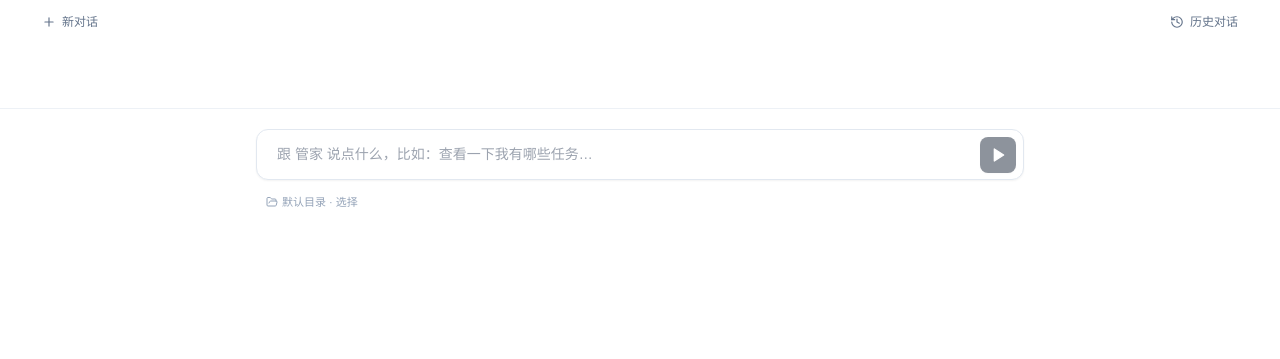
Scenario: ChatStream conversation initialization (Story 2.2 AC-2 / AC-7) › query 发出后在实际 thinking 内容到达前不展示 Think 框
Type "开始处理" into the dropdown with placeholder "跟 管家 说点什么，比如：查看一下我有哪些任务…" at (640, 154), box [256,129,1024,180]
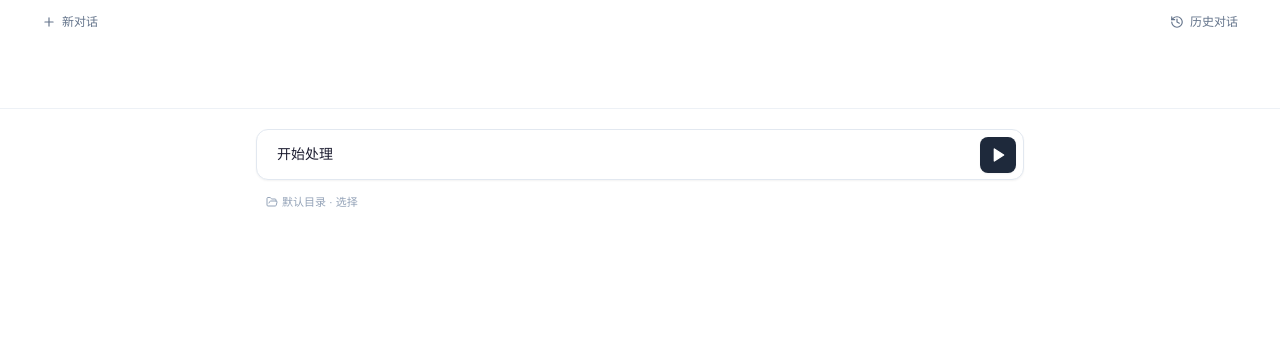
Click the button named "发送" at (998, 154), box [980,136,1016,172]
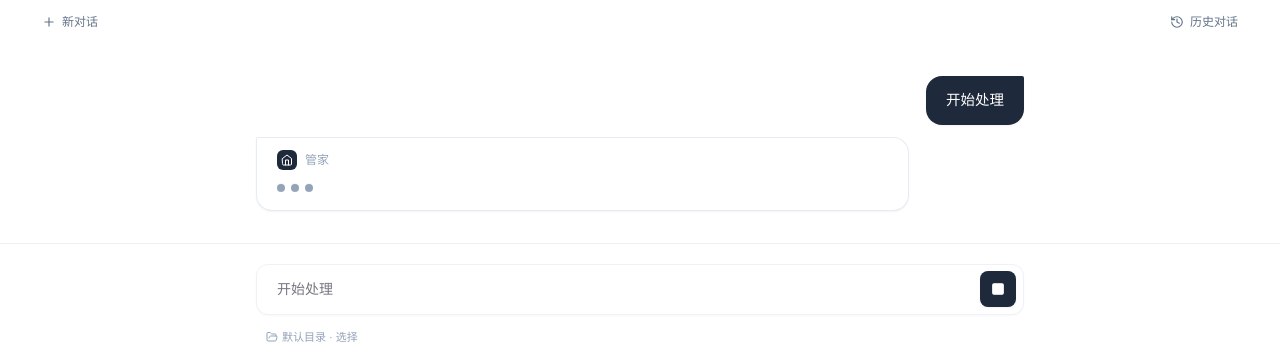
Result: the dropdown with placeholder "跟 管家 说点什么，比如：查看一下我有哪些任务…" is disabled at [256,264,1024,315]
